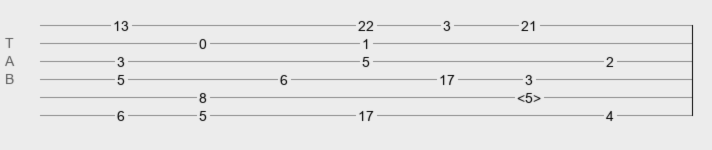0: (199, 36, 207, 46)
1: (362, 36, 370, 46)
13: (113, 18, 129, 28)
17: (358, 108, 374, 118), (439, 72, 455, 82)
2: (606, 54, 614, 64)
21: (521, 18, 537, 28)
22: (358, 18, 374, 28)
3: (117, 54, 125, 64), (443, 18, 451, 28), (525, 72, 533, 82)
4: (606, 108, 614, 118)
5: (117, 72, 125, 82), (199, 108, 207, 118), (362, 54, 370, 64)
6: (117, 108, 125, 118), (280, 72, 288, 82)
8: (199, 90, 207, 100)
harmonic: (517, 90, 541, 100)
